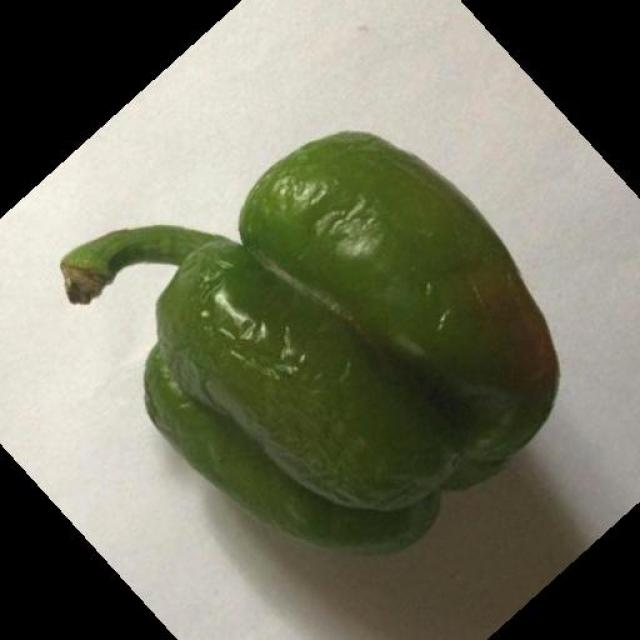Stale_Capsicum: (133, 150, 550, 531)
